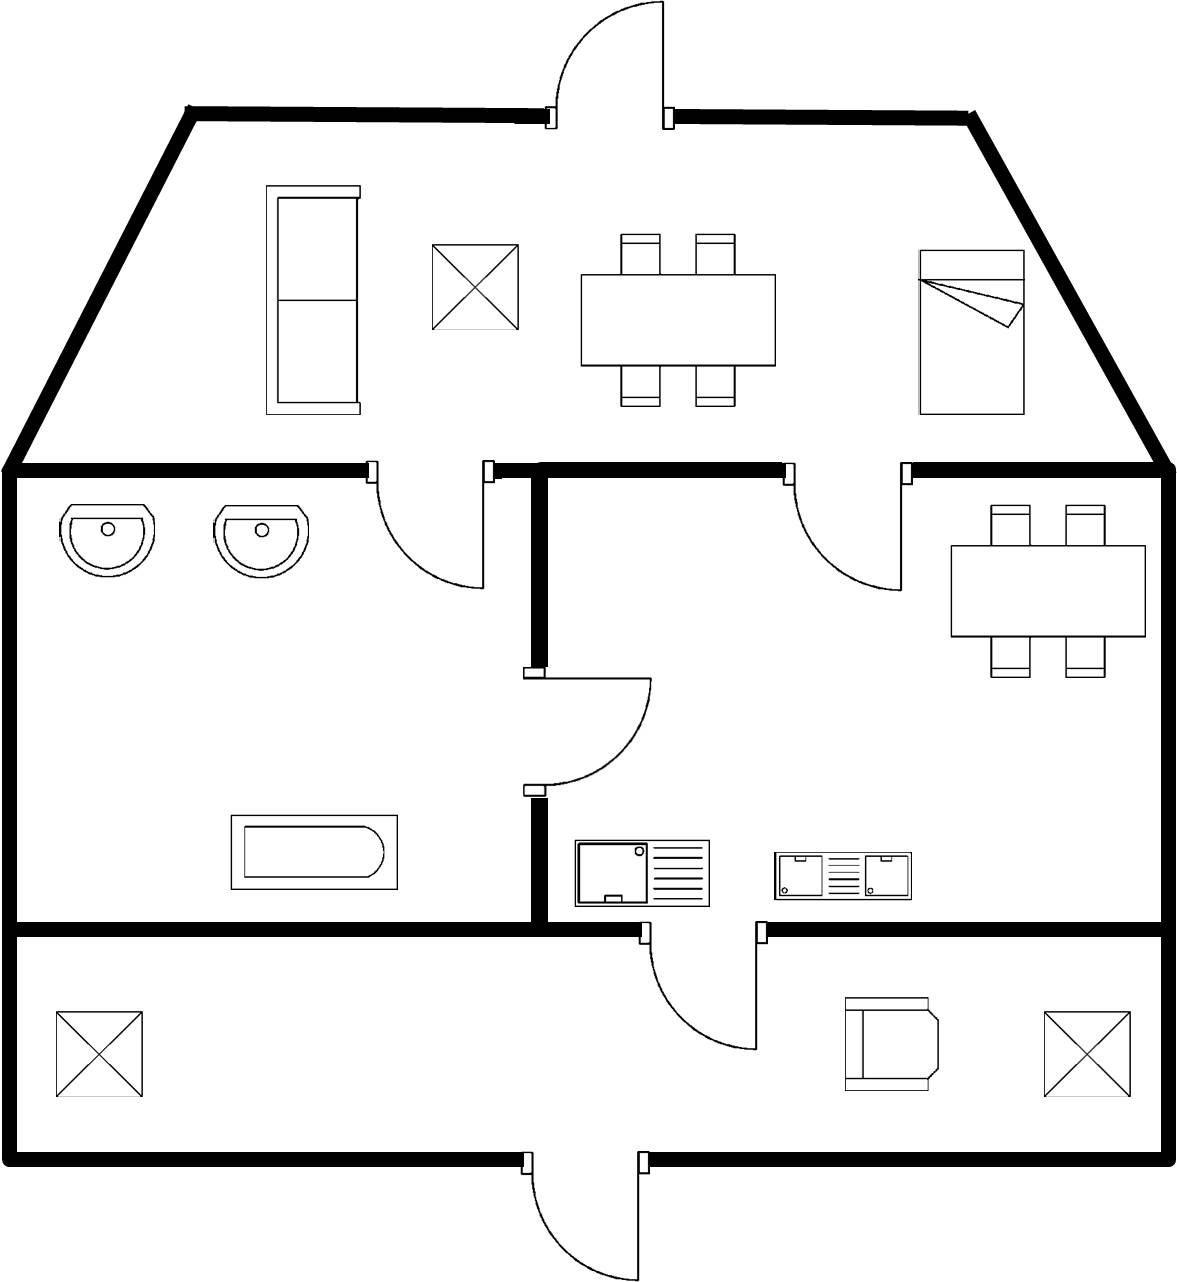armchair: (834, 986, 950, 1106)
bed: (908, 237, 1034, 429)
coffee_table: (418, 230, 533, 346), (1034, 997, 1144, 1110), (43, 1002, 154, 1110)
dining_table: (940, 495, 1155, 690), (569, 226, 786, 415)
large_sofa: (254, 175, 373, 430)
sink: (564, 831, 724, 917)
small_sink: (204, 494, 320, 587), (50, 494, 164, 589)
tub: (219, 804, 410, 902)
twin_sink: (764, 845, 925, 912)
